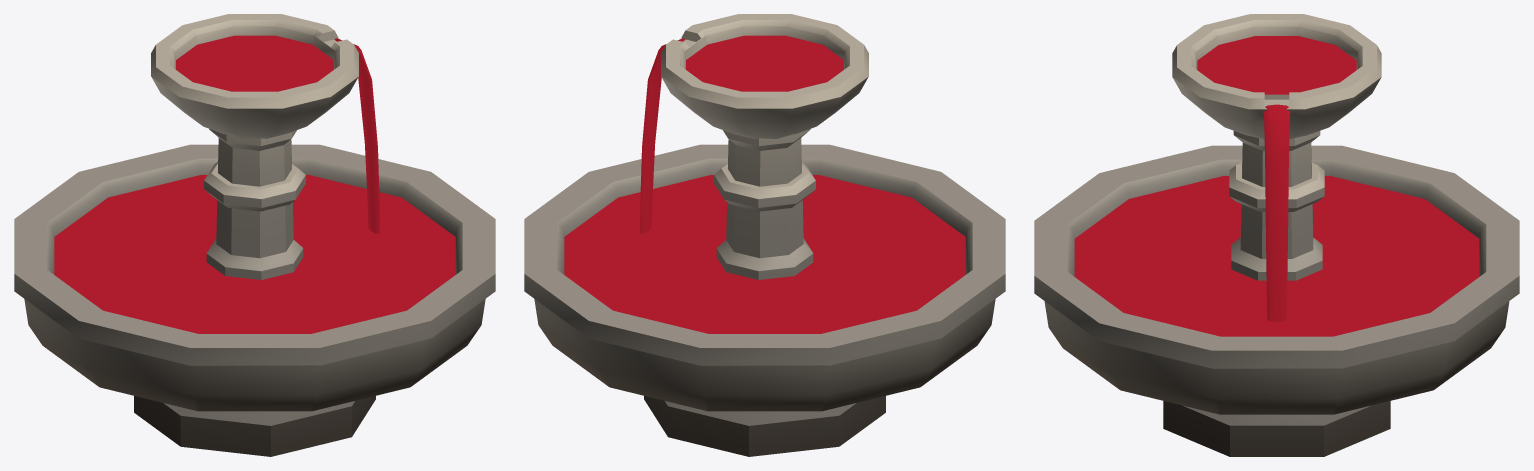
Rendered from fountain_tiered_health.glb.
The picture shows the model from 3 angles, left to right: view 1: azimuth 30°, elevation 25°; view 2: azimuth 150°, elevation 25°; view 3: azimuth 270°, elevation 25°; orthographic projection.
Visible parts, largest first — view 1: Item; view 2: Item; view 3: Item.
Boxes of the visible parts, box(x1,y1,x2,y2) form: Item: box(14, 14, 495, 456); Item: box(524, 14, 1005, 456); Item: box(1034, 14, 1519, 456).
Bounding box in the file's own units: 1.97 × 1.58 × 1.97.
2 materials, 2 textured.
